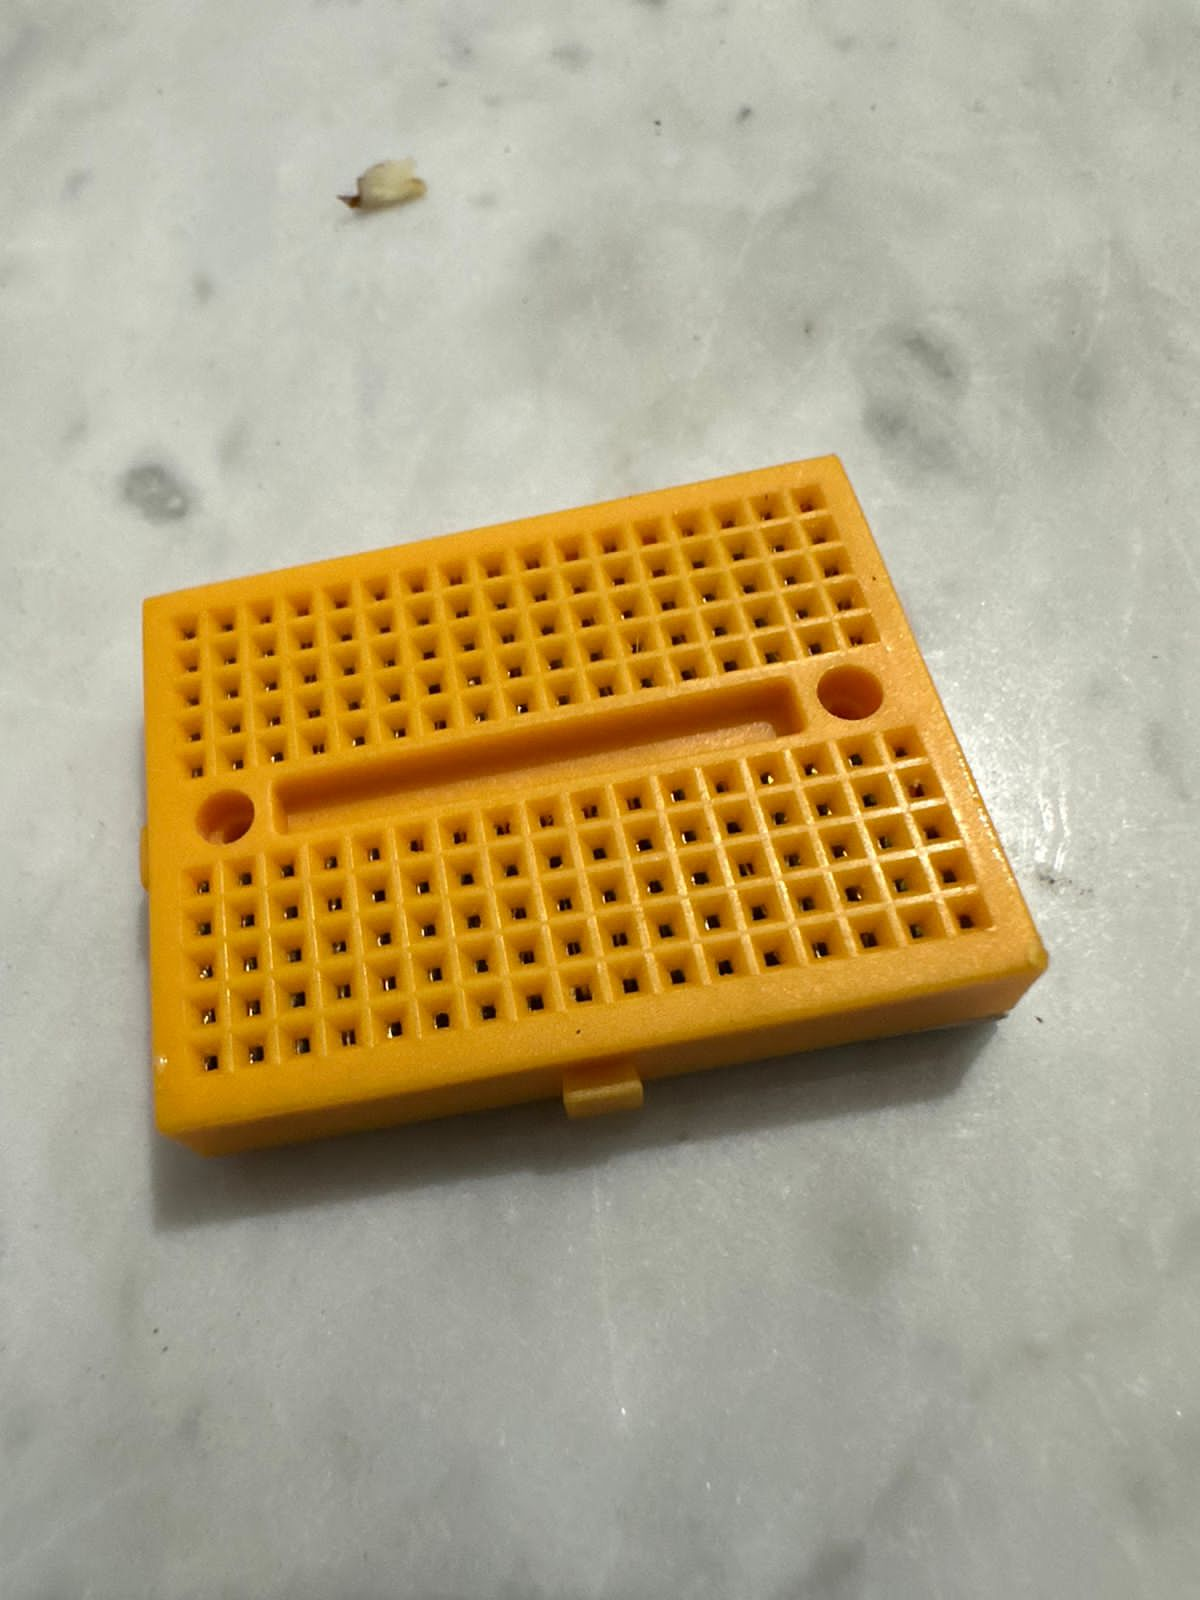breadboard: (145, 449, 1068, 1157)
